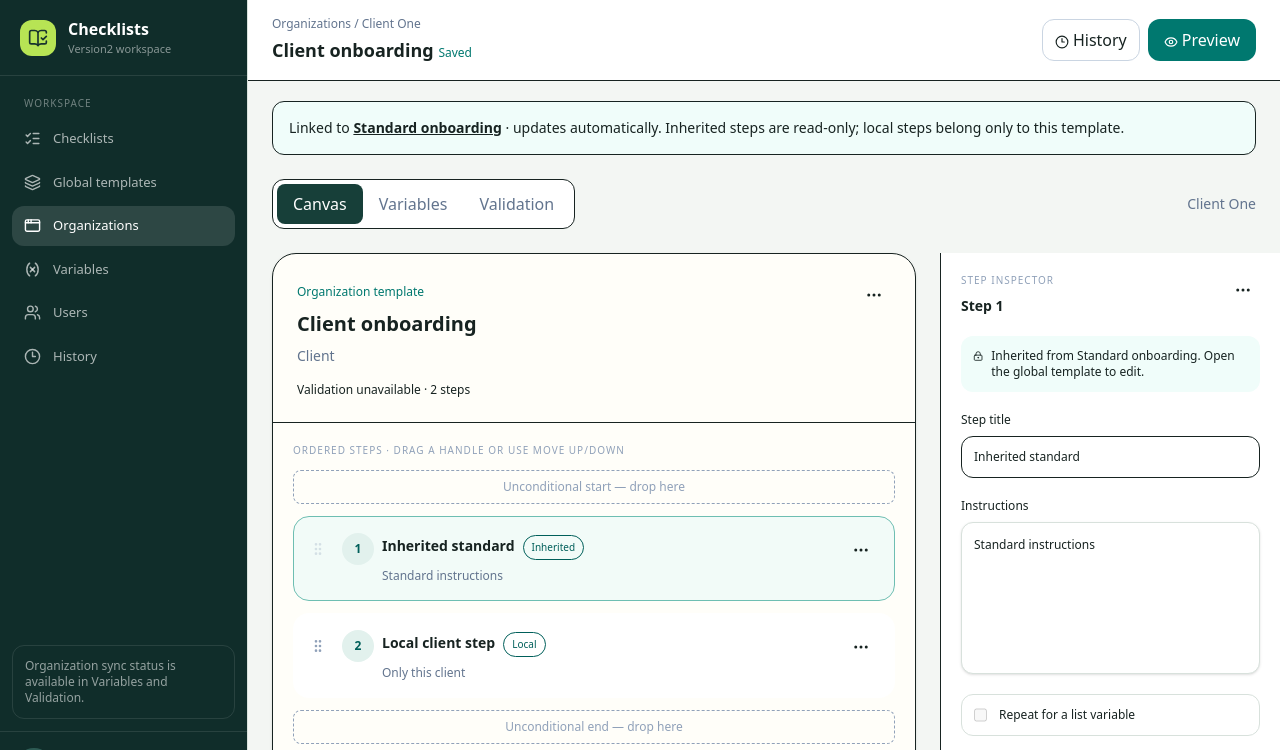
new template authoring › explains pending mapped values without 59 duplicate errors and lets only an admin explicitly refresh them
This screenshot has width=1280, height=750.
What coordinates should you click on to do the following:
click the tab "Validation"
I would click on:
 (517, 204)
Its box is [463,184,570,224].
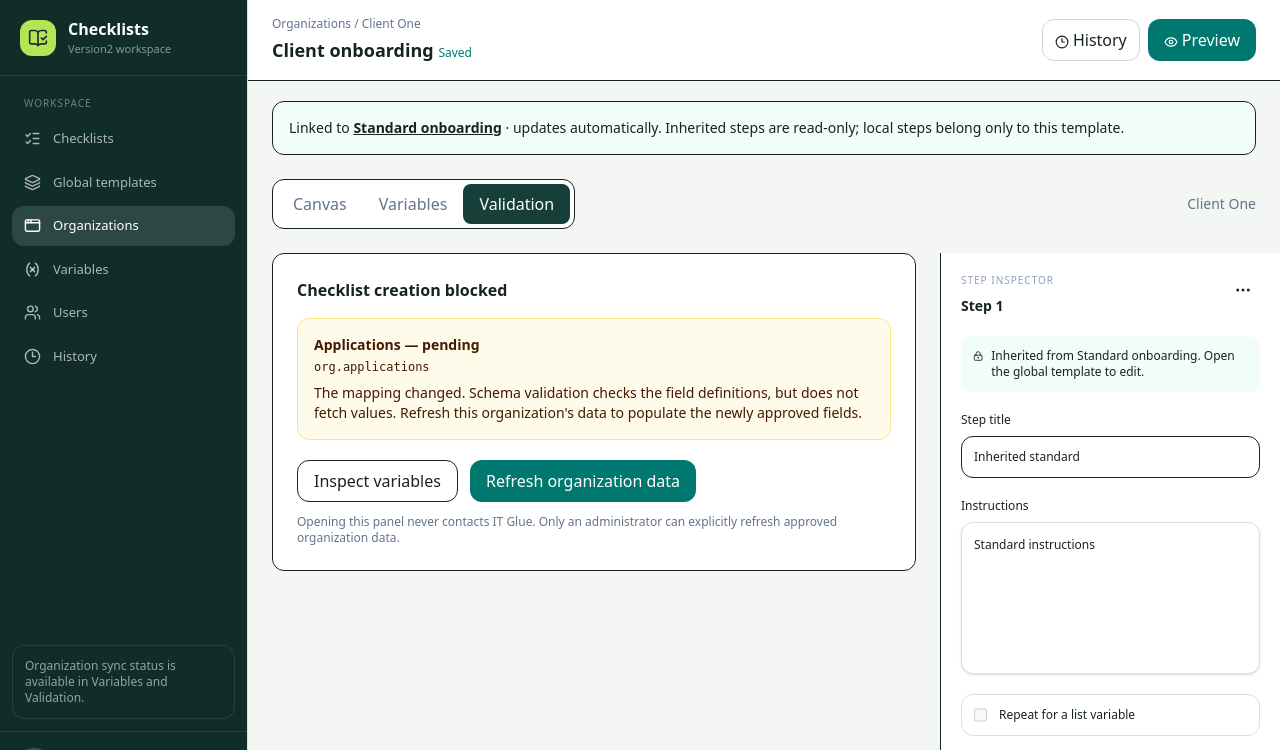
Now the text "Schema validation checks the field definitions" is shown, box [314,383,862,422]
What coordinates should you click on to do the following:
click the button "Refresh organization data"
I would click on:
 (583, 481)
Its box is [470,460,696,502].
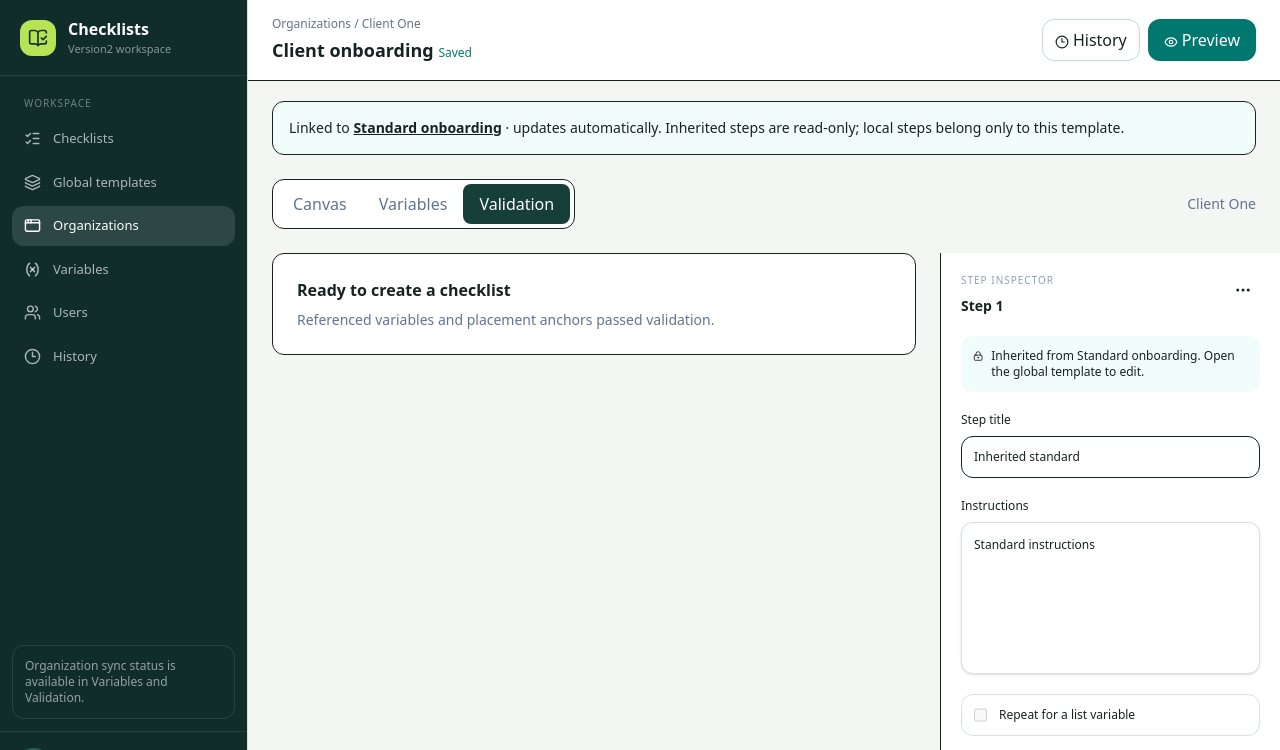
Now the heading "Ready to create a checklist" is shown, box [297,279,511,301]
